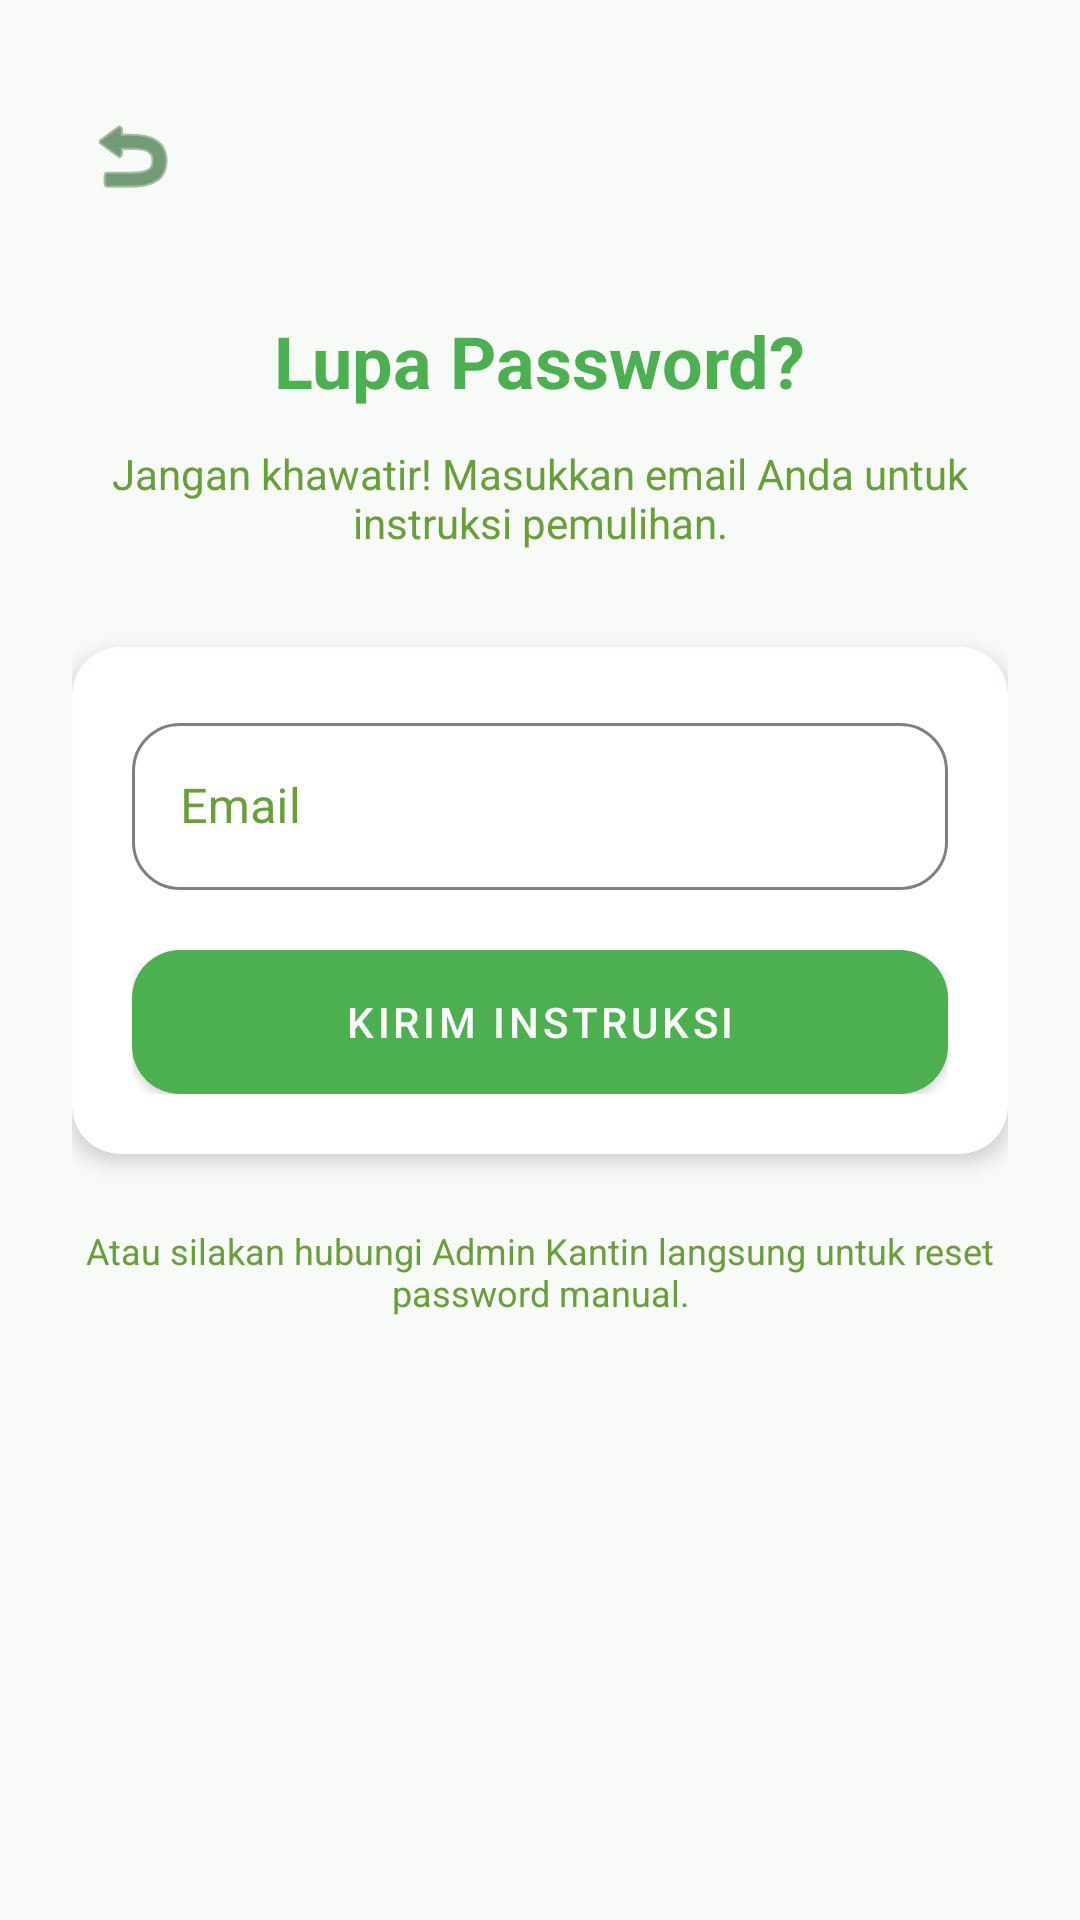

Named icons in this screenshot (1080px x 1920px) and their centers, point (x, y):
Kembali: point (133, 156)
